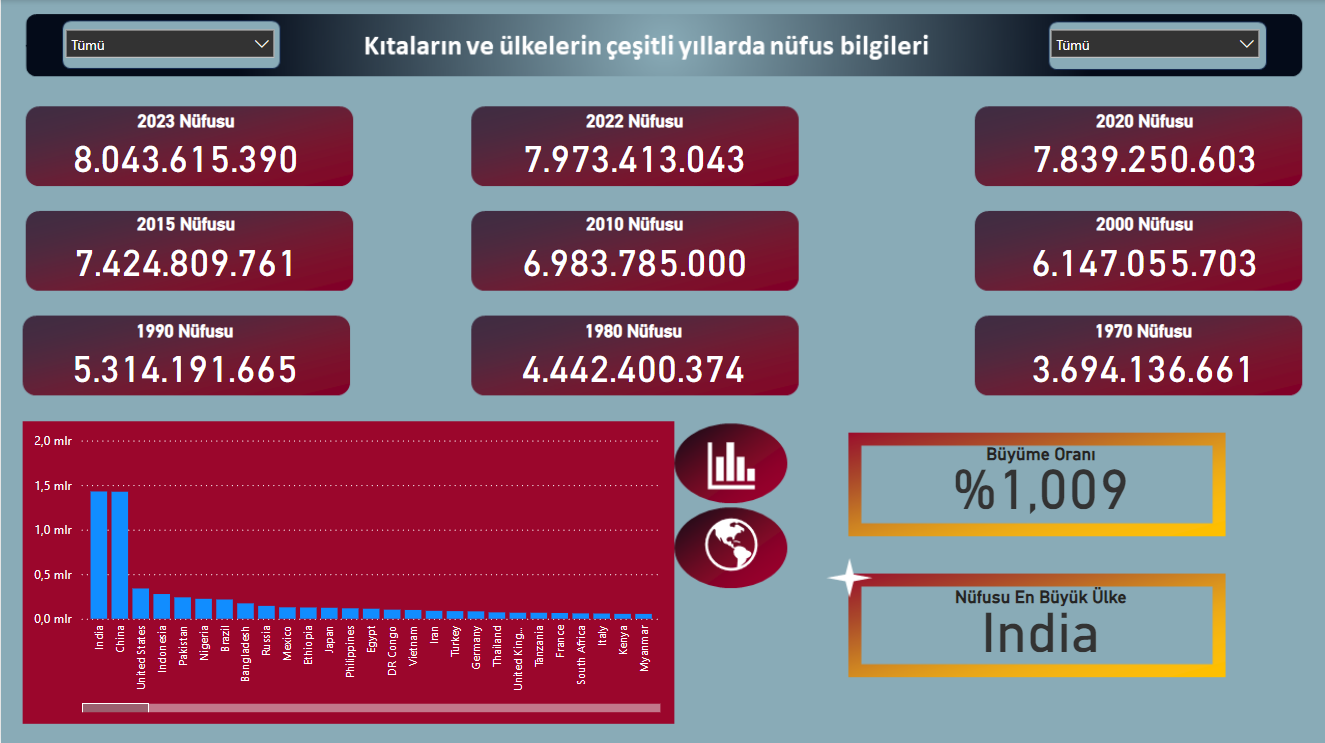

Layout of this report page (visuals, bound fields, positions):
{"tool":"powerbi","page":{"name":"1. sayfa","canvas":[1280,720],"ordinal":0},"visuals":[{"type":"slicer","title":"Kıtalar","fields":{"Values":["nufüs.continent"]},"box":[52.1,17.8,222.3,61.7],"z":0},{"type":"card","title":"2023 Nüfusu","fields":{"Values":["Sum(nufüs.2023 population)"]},"box":[41,106.1,275,68.7],"z":0,"group":"g1"},{"type":"card","title":"2015 Nüfusu","fields":{"Values":["Sum(nufüs.2015 population)"]},"box":[41,206.2,275,68.7],"z":0,"group":"g2"},{"type":"card","title":"1990 Nüfusu","fields":{"Values":["Sum(nufüs.1990 population)"]},"box":[39.8,308.7,275,68.7],"z":0,"group":"g3"},{"type":"slicer","title":"Kıtalar","fields":{"Values":["nufüs.country"]},"box":[1003.1,17.8,222.3,61.7],"z":1000},{"type":"card","title":"2022 Nüfusu","fields":{"Values":["Sum(nufüs.2022 population)"]},"box":[474,106.1,275,68.7],"z":1000,"group":"g1"},{"type":"card","title":"2010 Nüfusu","fields":{"Values":["Sum(nufüs.2010 population)"]},"box":[474,206.2,275,68.7],"z":1000,"group":"g2"},{"type":"card","title":"1980 Nüfusu","fields":{"Values":["Sum(nufüs.1980 population)"]},"box":[472.8,308.7,275,68.7],"z":1000,"group":"g3"},{"type":"group","id":"g1","title":"Grup 1","box":[41,106.1,1200,68.7],"z":2000},{"type":"card","title":"2020 Nüfusu","fields":{"Values":["Sum(nufüs.2020 population)"]},"box":[966,106.1,275,68.7],"z":2000,"group":"g1"},{"type":"card","title":"2000 Nüfusu","fields":{"Values":["Sum(nufüs.2000 population)"]},"box":[966,206.2,275,68.7],"z":2000,"group":"g2"},{"type":"card","title":"1970 Nüfusu","fields":{"Values":["Sum(nufüs.1970 population)"]},"box":[964.8,308.7,275,68.7],"z":2000,"group":"g3"},{"type":"group","id":"g2","title":"Grup 1","box":[41,206.2,1200,68.7],"z":3000},{"type":"group","id":"g3","title":"Grup 1","box":[39.8,308.7,1200,68.7],"z":4000},{"type":"card","title":"Büyüme Oranı","fields":{"Values":["nufüs.Büyüme Oranı"]},"box":[832.2,428.1,342.5,77.2],"z":6000},{"type":"card","title":"Nüfusu En Büyük Ülke","fields":{"Values":["Min(nufüs.country)"]},"box":[832.2,565.6,342.5,77.2],"z":7000},{"type":"columnChart","fields":{"Category":["nufüs.country"],"Y":["Sum(nufüs.2023 population)"]},"box":[26.5,411.3,615.1,281],"z":8000},{"type":"actionButton","box":[656.3,410.4,98.7,72.7],"z":9000},{"type":"actionButton","box":[656.3,493.5,98.7,72.7],"z":10000}]}

Visuals, with their boxes in screenshot pixels (x1, y1, x2, y2), scaled from the page's 1280x720 canvas onto the 1325x743 screenshot:
"Kıtalar" slicer: l=54, t=18, r=284, b=82
"2023 Nüfusu" card: l=42, t=109, r=327, b=180
"2015 Nüfusu" card: l=42, t=213, r=327, b=284
"1990 Nüfusu" card: l=41, t=319, r=326, b=389
"Kıtalar" slicer: l=1038, t=18, r=1268, b=82
"2022 Nüfusu" card: l=491, t=109, r=775, b=180
"2010 Nüfusu" card: l=491, t=213, r=775, b=284
"1980 Nüfusu" card: l=489, t=319, r=774, b=389
"Grup 1" group: l=42, t=109, r=1285, b=180
"2020 Nüfusu" card: l=1000, t=109, r=1285, b=180
"2000 Nüfusu" card: l=1000, t=213, r=1285, b=284
"1970 Nüfusu" card: l=999, t=319, r=1283, b=389
"Grup 1" group: l=42, t=213, r=1285, b=284
"Grup 1" group: l=41, t=319, r=1283, b=389
"Büyüme Oranı" card: l=861, t=442, r=1216, b=521
"Nüfusu En Büyük Ülke" card: l=861, t=584, r=1216, b=663
columnChart - nufüs.country x Sum(nufüs.2023 population): l=27, t=424, r=664, b=714
actionButton: l=679, t=424, r=782, b=499
actionButton: l=679, t=509, r=782, b=584
